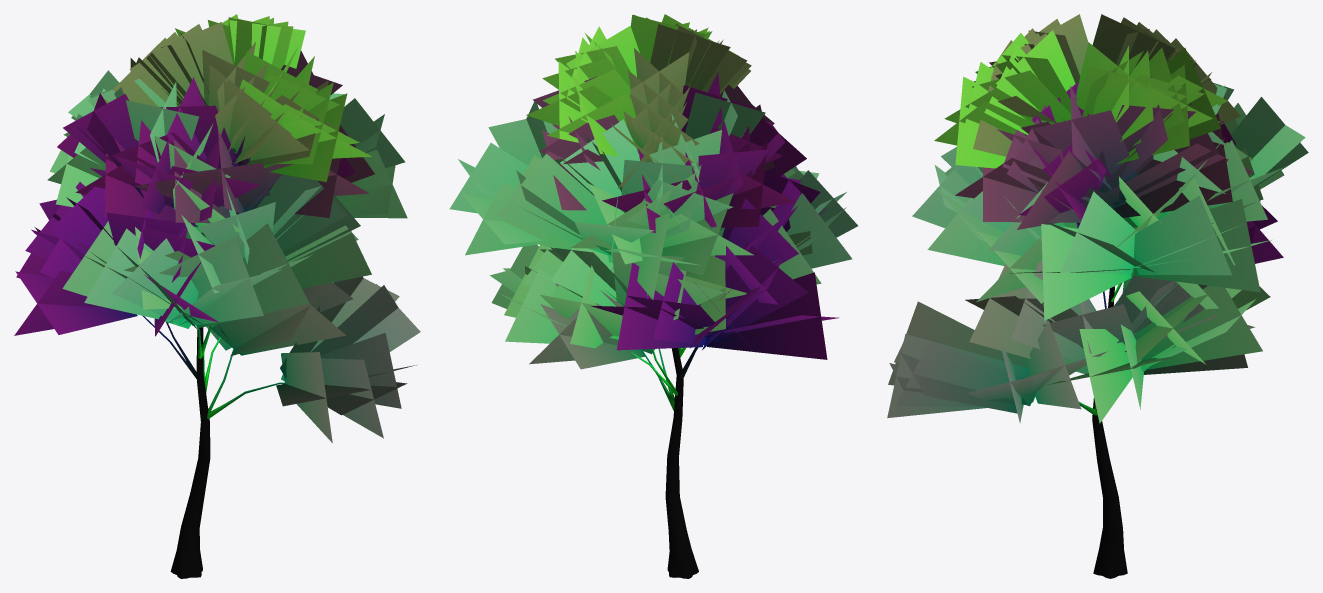
Rendered from Tree_8_1.fbx.
3 views of the same model, side by side, from view 1: azimuth 30°, elevation 25°; view 2: azimuth 150°, elevation 25°; view 3: azimuth 270°, elevation 25° (orthographic). The views are drawn at different scales.
Visible parts, largest first — view 1: _4; view 2: _4; view 3: _4.
Part boxes in pixels (x1,y1,x2,y2): _4: [14, 14, 420, 578]; _4: [449, 14, 857, 578]; _4: [887, 14, 1308, 578].
Bounding box in the file's own units: 1029 × 1472 × 1001.
